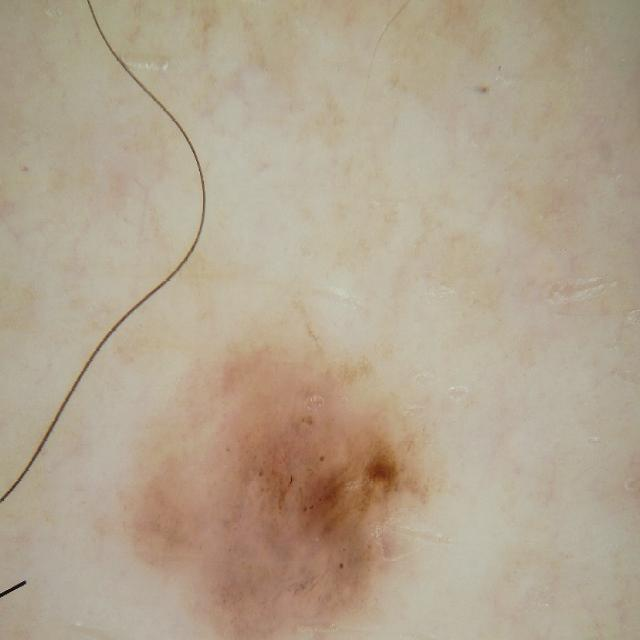Melanoma: (121, 323, 443, 640)
